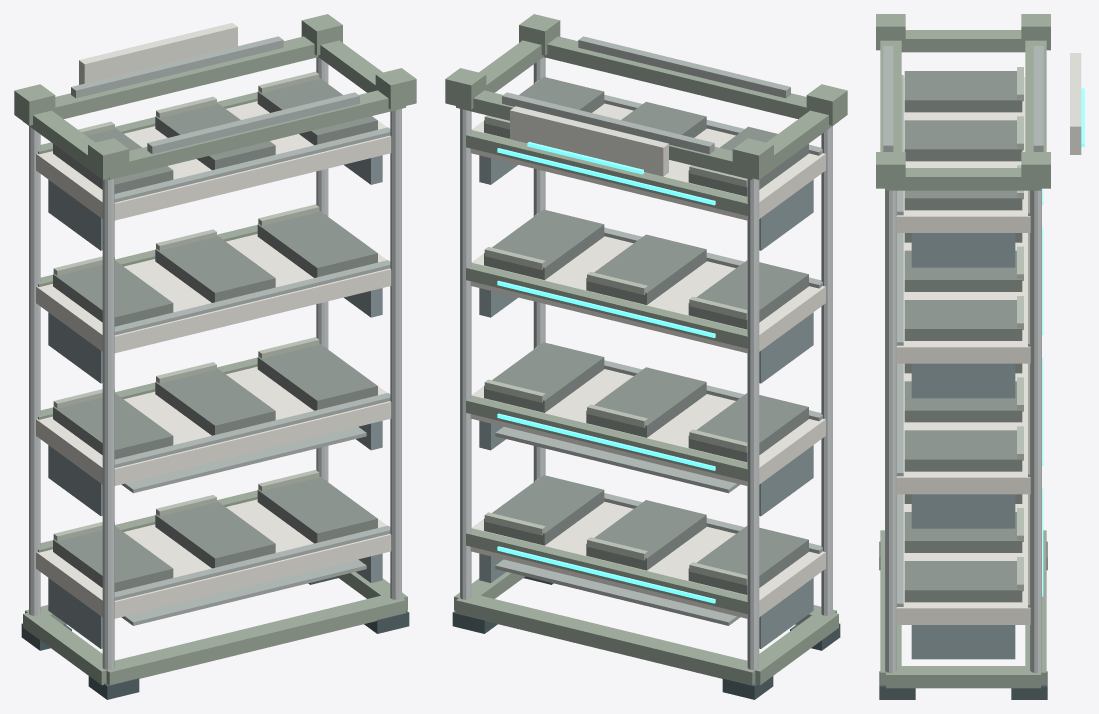
The model's file is s7-e0e1-rs02-nursery-4-tier.glb.
3 renders of one model, left to right at view 1: azimuth 30°, elevation 25°; view 2: azimuth 150°, elevation 25°; view 3: azimuth 270°, elevation 25°, orthographic.
Parts seen in each view (by area): view 1: tray-load-deck-028, tray-load-deck-022, tray-load-deck-016, tray-load-deck-034, rack-long-rail-009, chrome-vertical-post-002, chrome-vertical-post-006, chrome-vertical-post-000, rack-long-rail-012, empty-nursery-tray-050, empty-nursery-tray-056, empty-nursery-tray-062 (+39 smaller); view 2: tray-load-deck-028, tray-load-deck-022, tray-load-deck-016, rack-long-rail-008, chrome-vertical-post-000, chrome-vertical-post-004, chrome-vertical-post-002, rack-identity-panel-074, rack-long-rail-013, tray-load-deck-034, deck-front-lip-017, deck-front-lip-023 (+53 smaller); view 3: chrome-vertical-post-004, chrome-vertical-post-006, tray-load-deck-034, tray-load-deck-022, empty-nursery-tray-052, empty-nursery-tray-066, empty-nursery-tray-058, tray-load-deck-028, empty-nursery-tray-068, tray-load-deck-016, empty-nursery-tray-064, shelf-support-033 (+27 smaller).
Part boxes in pixels (x1,y1,x2,y2): tray-load-deck-028: (36, 234, 391, 353); tray-load-deck-022: (36, 366, 391, 485); tray-load-deck-016: (36, 499, 391, 618); tray-load-deck-034: (36, 101, 391, 220); rack-long-rail-009: (99, 593, 405, 684); chrome-vertical-post-002: (102, 179, 114, 669); chrome-vertical-post-006: (390, 109, 401, 599); chrome-vertical-post-000: (29, 126, 40, 615); rack-long-rail-012: (55, 36, 318, 118); empty-nursery-tray-050: (155, 501, 275, 568); empty-nursery-tray-056: (155, 368, 275, 435); empty-nursery-tray-062: (155, 235, 275, 302); tray-load-deck-028: (470, 236, 825, 353); tray-load-deck-022: (470, 369, 825, 485); tray-load-deck-016: (470, 501, 825, 618); rack-long-rail-008: (456, 593, 762, 684); chrome-vertical-post-000: (747, 179, 759, 669); chrome-vertical-post-004: (460, 109, 471, 599); chrome-vertical-post-002: (821, 126, 832, 615); rack-identity-panel-074: (510, 106, 668, 176); rack-long-rail-013: (543, 36, 806, 118); tray-load-deck-034: (470, 103, 825, 220); deck-front-lip-017: (466, 528, 748, 614); deck-front-lip-023: (466, 395, 748, 481); chrome-vertical-post-004: (1030, 188, 1041, 672); chrome-vertical-post-006: (885, 188, 896, 672); tray-load-deck-034: (896, 77, 1030, 232); tray-load-deck-022: (896, 363, 1030, 494); empty-nursery-tray-052: (904, 561, 1022, 602); empty-nursery-tray-066: (904, 71, 1022, 112); empty-nursery-tray-058: (904, 430, 1022, 471); tray-load-deck-028: (896, 233, 1030, 363); empty-nursery-tray-068: (904, 120, 1022, 161); tray-load-deck-016: (896, 494, 1030, 624); empty-nursery-tray-064: (904, 300, 1022, 340); shelf-support-033: (911, 363, 1015, 398).
Bounding box in the file's own units: 1.08 × 1.8 × 0.633.
